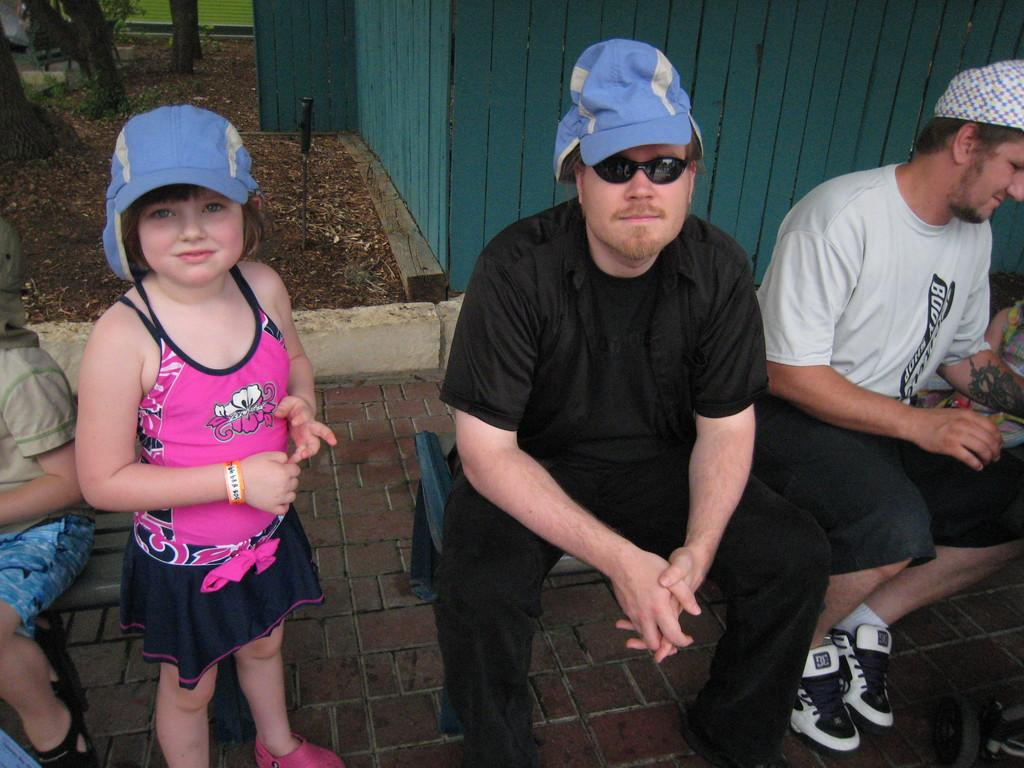Hat: (102, 102, 262, 282), (552, 36, 706, 186), (933, 57, 1023, 134), (0, 210, 42, 346)
